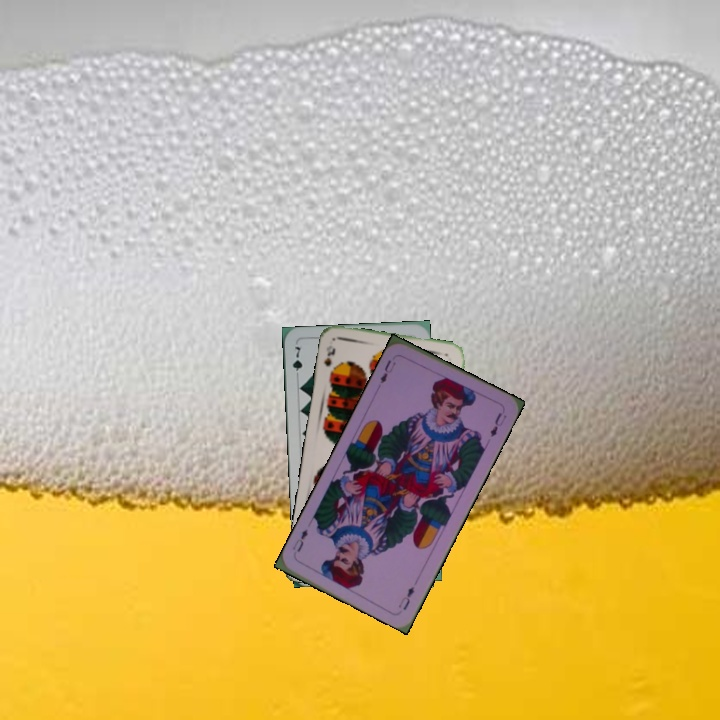EU: (394, 582, 417, 613), (376, 356, 398, 386)
G7: (288, 343, 305, 382)
S9: (320, 341, 339, 380)
